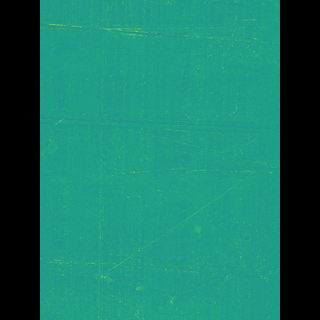Loch: (85, 0, 241, 320), (70, 18, 246, 81), (79, 253, 236, 313), (69, 112, 248, 145)
